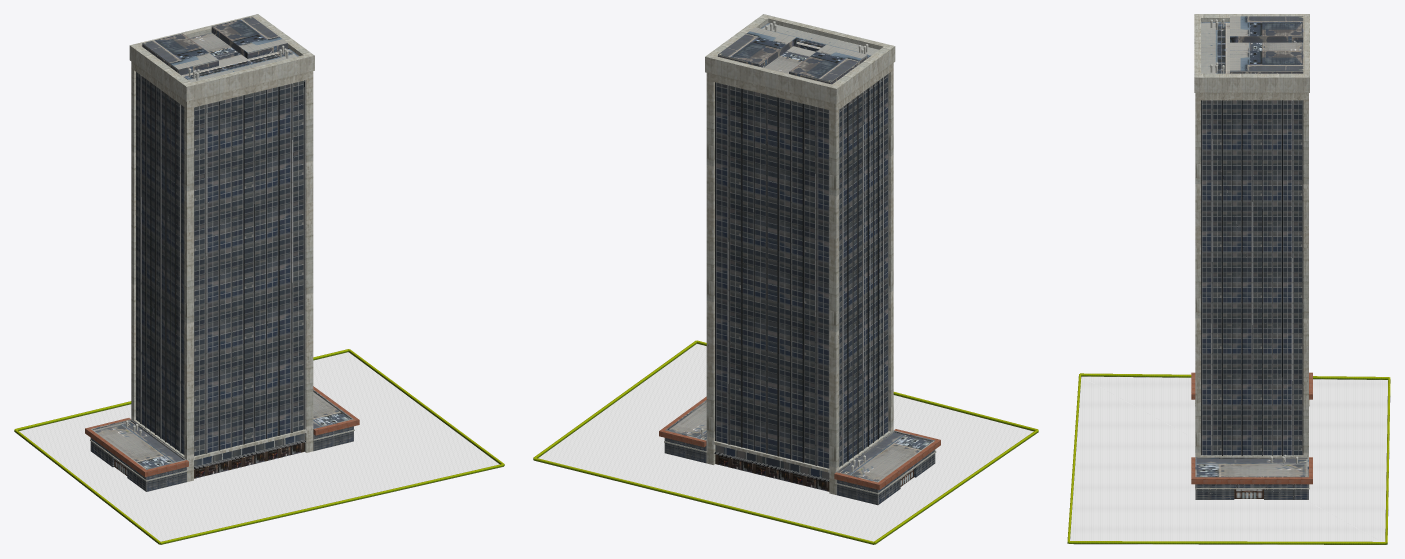
File: Unity2GLTF.gltf
The picture shows the model from 3 angles, left to right: view 1: azimuth 30°, elevation 25°; view 2: azimuth 150°, elevation 25°; view 3: azimuth 270°, elevation 25°; orthographic projection. The views are drawn at different scales.
Parts seen in each view (by area): view 1: node_CombinePlacement_-67124, node_CombineFloor_-67134, node_CombinePrefabWall_-67112; view 2: node_CombinePlacement_-67124, node_CombineFloor_-67134, node_CombinePrefabWall_-67112; view 3: node_CombinePlacement_-67124, node_CombineFloor_-67134, node_CombinePrefabWall_-67112.
Part boxes in pixels (left/top/right/bottom): node_CombinePlacement_-67124: left=85, top=14, right=359, bottom=491; node_CombineFloor_-67134: left=19, top=352, right=499, bottom=541; node_CombinePrefabWall_-67112: left=14, top=349, right=504, bottom=544; node_CombinePlacement_-67124: left=659, top=14, right=940, bottom=505; node_CombineFloor_-67134: left=538, top=344, right=1033, bottom=541; node_CombinePrefabWall_-67112: left=533, top=340, right=1038, bottom=544; node_CombinePlacement_-67124: left=1191, top=14, right=1312, bottom=499; node_CombineFloor_-67134: left=1070, top=376, right=1387, bottom=541; node_CombinePrefabWall_-67112: left=1067, top=373, right=1390, bottom=544.
Size of the model in its own units: 107 by 119 by 85.9.
12 materials, 12 textured.
